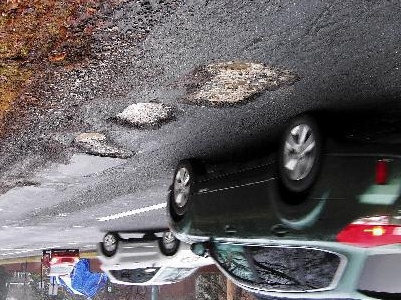pothole: (177, 56, 299, 111), (108, 99, 180, 133), (68, 130, 135, 162)
